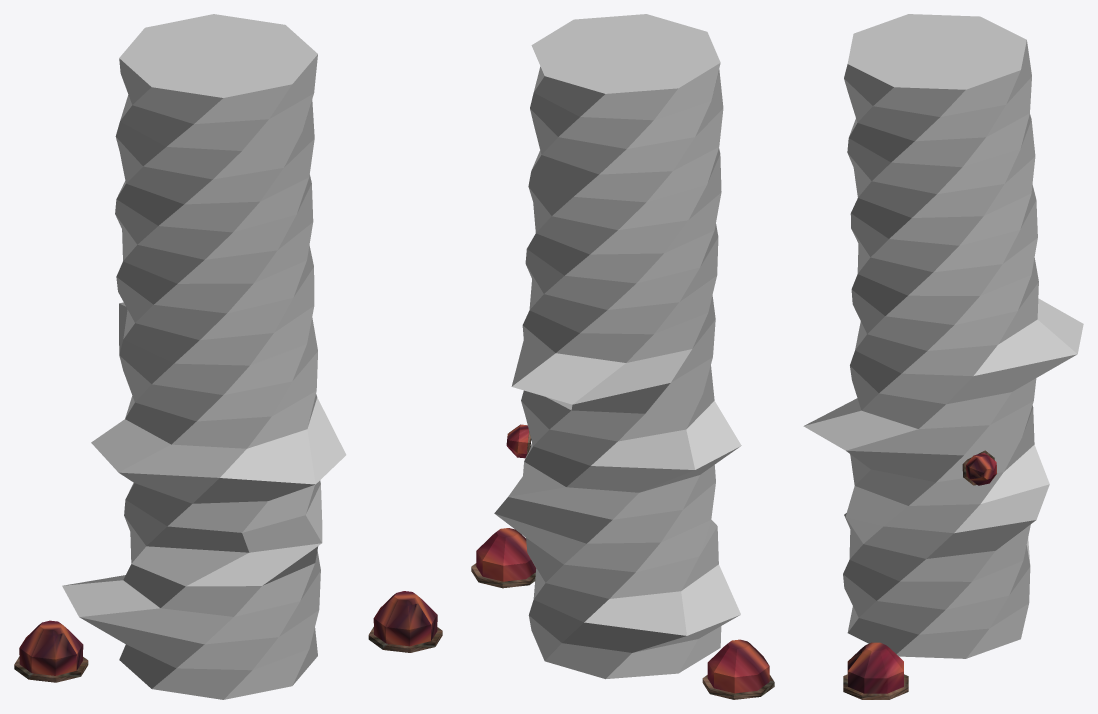
The model's file is CenterStem.fbx.
3 views of the same model, side by side, from view 1: azimuth 30°, elevation 25°; view 2: azimuth 150°, elevation 25°; view 3: azimuth 270°, elevation 25° (orthographic). The views are drawn at different scales.
Visible parts, largest first — view 1: Circle.035, Circle.038, Circle.042; view 2: Circle.035, Circle.038, Circle.042, Circle.043; view 3: Circle.035, Circle.042, Circle.043.
Boxes of the visible parts, bbox=[...] form: Circle.035: bbox=[62, 14, 346, 699]; Circle.038: bbox=[14, 620, 88, 682]; Circle.042: bbox=[368, 591, 442, 652]; Circle.035: bbox=[494, 14, 741, 679]; Circle.038: bbox=[702, 639, 774, 699]; Circle.042: bbox=[471, 528, 536, 588]; Circle.043: bbox=[506, 424, 531, 458]; Circle.035: bbox=[803, 14, 1083, 658]; Circle.042: bbox=[843, 642, 908, 699]; Circle.043: bbox=[962, 450, 996, 485].
Bounding box in the file's own units: 35.8 × 57.82 × 25.82.
